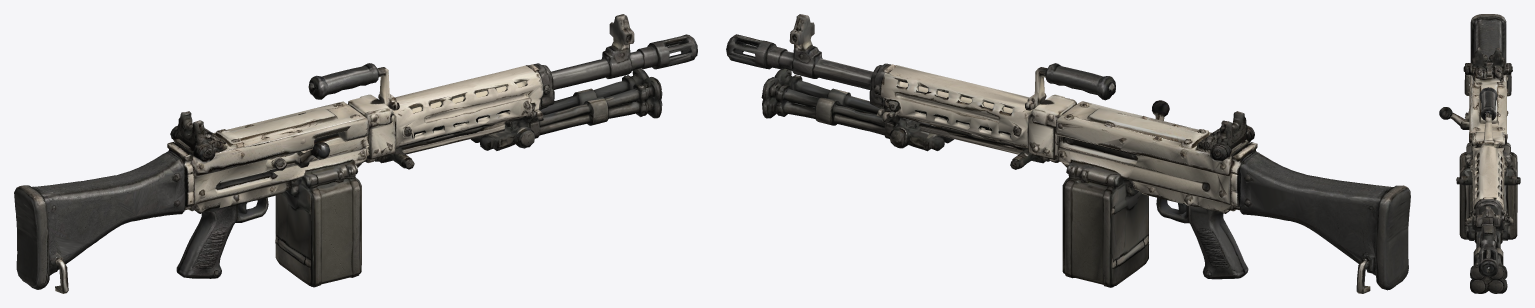
The model's file is lmg.glb.
3 renders of one model, left to right at view 1: azimuth 30°, elevation 25°; view 2: azimuth 150°, elevation 25°; view 3: azimuth 270°, elevation 25°, orthographic. The views are drawn at different scales.
Visible parts, largest first — view 1: tripo_node_ad1ec8dc-cbcf-403f-913f-1bc057f884e3; view 2: tripo_node_ad1ec8dc-cbcf-403f-913f-1bc057f884e3; view 3: tripo_node_ad1ec8dc-cbcf-403f-913f-1bc057f884e3.
Part boxes in pixels (x1=…): tripo_node_ad1ec8dc-cbcf-403f-913f-1bc057f884e3: x1=14, y1=14, x2=697, y2=293; tripo_node_ad1ec8dc-cbcf-403f-913f-1bc057f884e3: x1=726, y1=14, x2=1410, y2=293; tripo_node_ad1ec8dc-cbcf-403f-913f-1bc057f884e3: x1=1439, y1=14, x2=1520, y2=293.
Size of the model in its own units: 0.981 by 0.2722 by 0.1387.
Materials: 1 (1 with a texture image).
